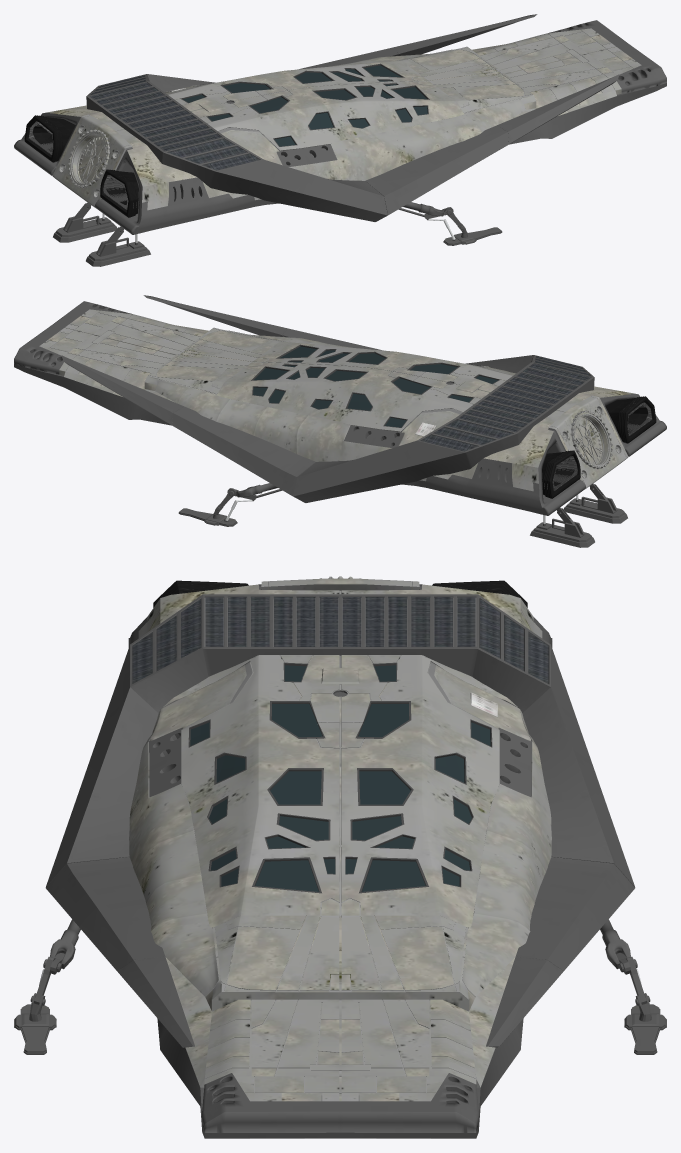
The model's file is ranger.glb.
3 renders of one model, top to bottom at view 1: azimuth 30°, elevation 25°; view 2: azimuth 150°, elevation 25°; view 3: azimuth 270°, elevation 25°, orthographic. The views are drawn at different scales.
Visible parts, largest first — view 1: RangerHull, RangerGlass, RangerGearRear, RangerGear; view 2: RangerHull, RangerGlass, RangerGearRear, RangerGear; view 3: RangerHull, RangerGlass, RangerGear.
Boxes of the visible parts, x1,y1,x2,y2 form: RangerHull: (14, 14, 666, 234); RangerGlass: (183, 65, 427, 146); RangerGearRear: (53, 202, 150, 266); RangerGear: (398, 202, 502, 245); RangerHull: (14, 295, 666, 515); RangerGlass: (253, 346, 497, 427); RangerGearRear: (530, 483, 627, 547); RangerGear: (178, 483, 282, 526); RangerHull: (45, 576, 635, 1138); RangerGlass: (190, 665, 490, 891); RangerGear: (14, 919, 666, 1054).
Size of the model in its own units: 3.49 by 0.6889 by 1.98.
2 materials, 1 textured.
